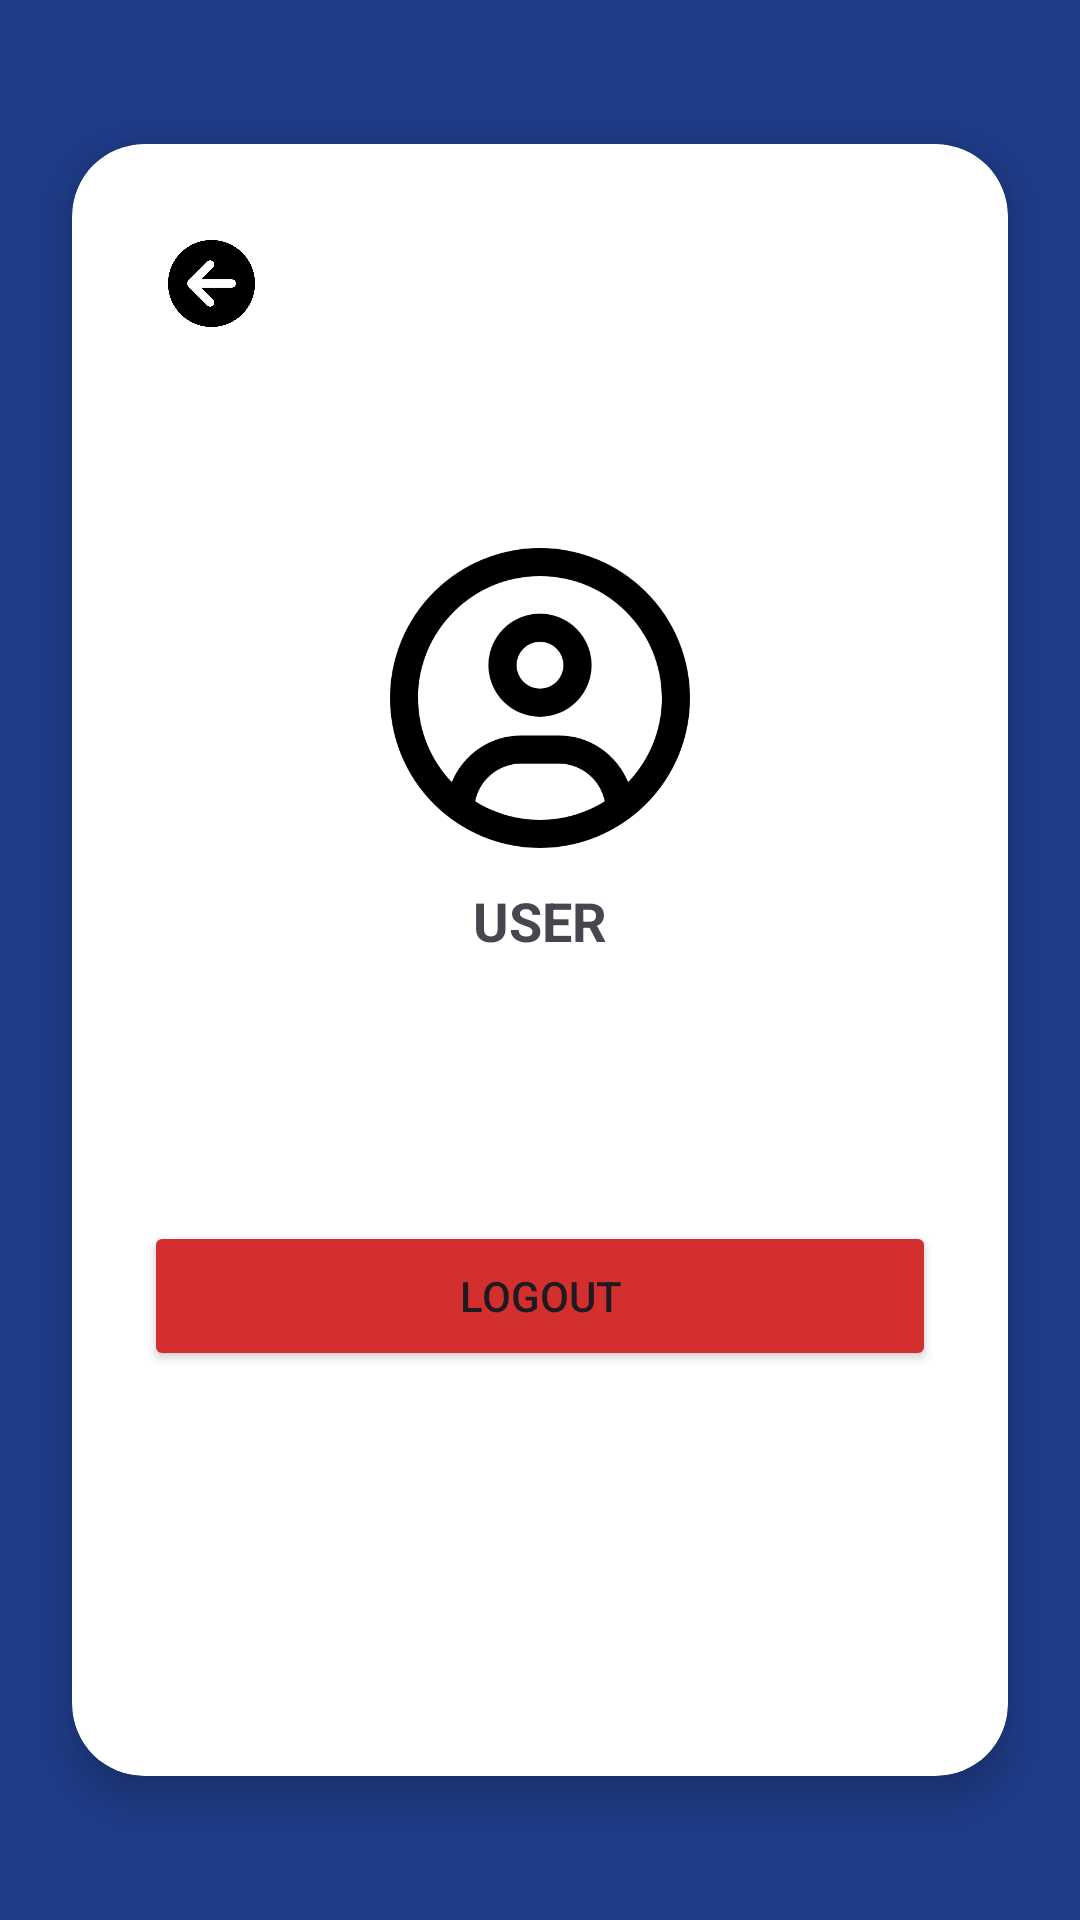

Icon click points for this 1080×1920 phone screenshot, format (x,y):
navigation: (211,283)
